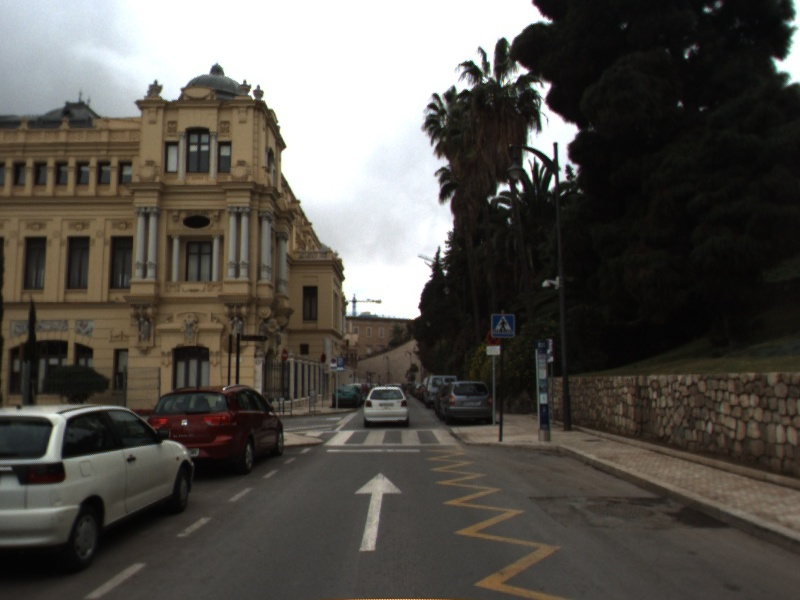STRAIGHT: (352, 470, 405, 553)
